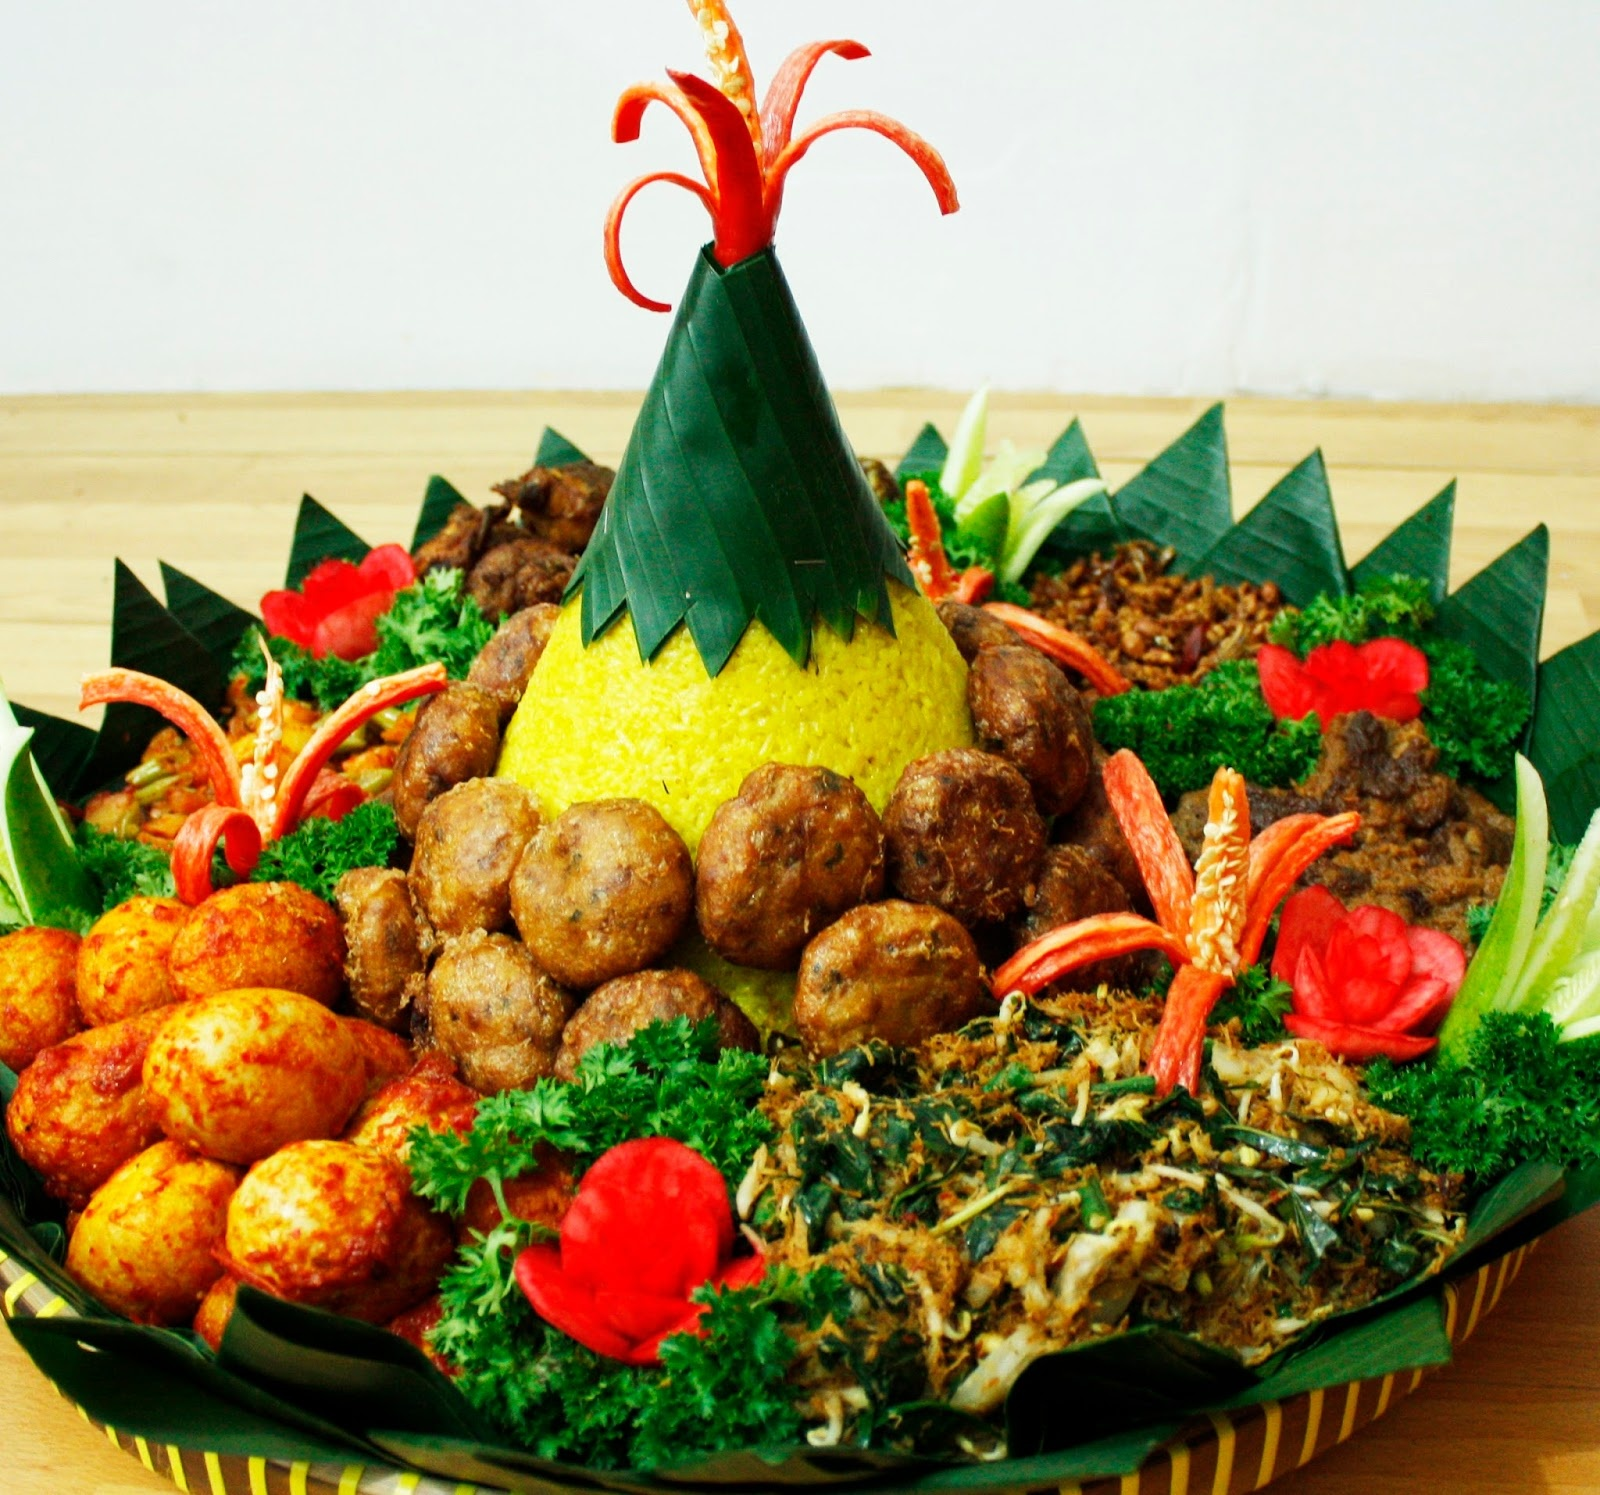nasi_tumpeng: (6, 100, 1585, 1428)
